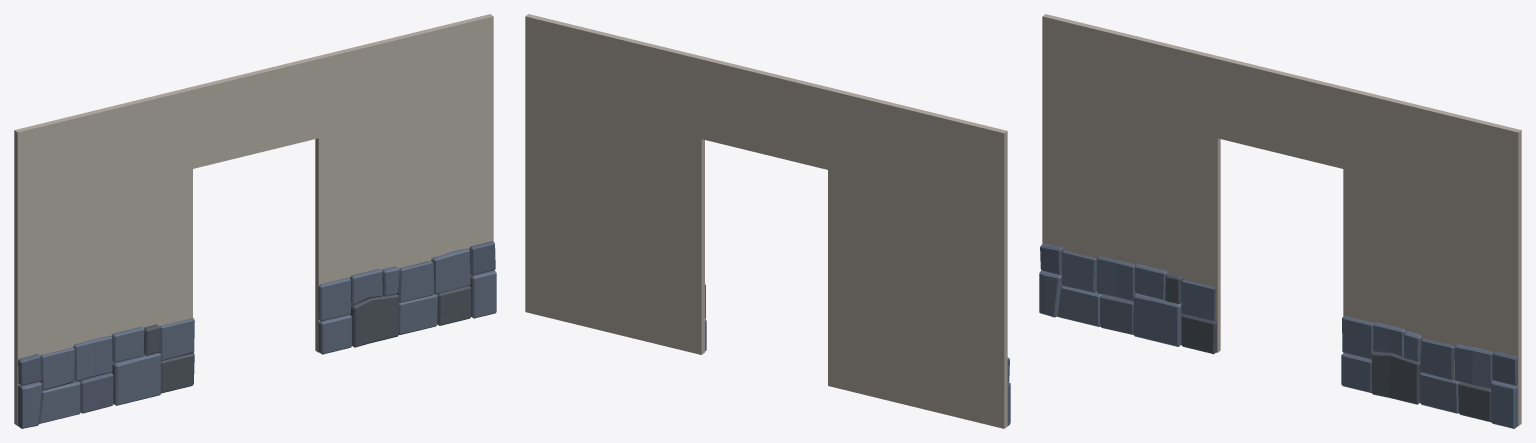
File: Wall_10_Door.fbx
3 views of the same model, side by side, from view 1: azimuth 30°, elevation 25°; view 2: azimuth 150°, elevation 25°; view 3: azimuth 330°, elevation 25° (orthographic).
Visible parts, largest first — view 1: Wall_10_Door; view 2: Wall_10_Door; view 3: Wall_10_Door.
Boxes of the visible parts, x1=… form: Wall_10_Door: x1=14, y1=14, x2=496, y2=428; Wall_10_Door: x1=525, y1=14, x2=1010, y2=428; Wall_10_Door: x1=1039, y1=14, x2=1521, y2=428.
Bounding box in the file's own units: 473 × 279 × 13.64.
